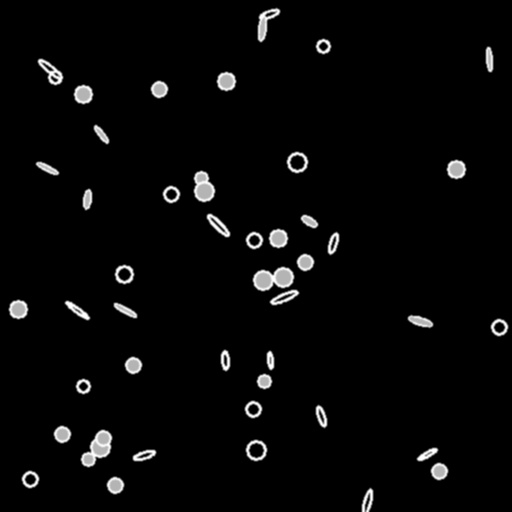pseudomonas: (205, 212, 231, 238), (37, 58, 63, 80), (270, 288, 298, 306), (65, 300, 89, 320), (113, 302, 137, 318), (407, 314, 433, 328), (92, 124, 110, 144), (360, 488, 374, 512), (258, 7, 280, 21), (36, 161, 58, 175), (417, 447, 437, 461), (315, 405, 327, 427), (133, 449, 155, 461), (327, 232, 339, 254), (257, 15, 267, 41), (300, 214, 318, 228), (83, 189, 91, 209), (221, 350, 229, 370), (486, 48, 492, 70), (267, 351, 273, 369)
synechocystis: (91, 438, 109, 456), (254, 271, 272, 289), (288, 153, 306, 171), (247, 441, 265, 459), (195, 182, 213, 200), (274, 268, 292, 286), (218, 73, 234, 89), (270, 230, 286, 246), (10, 301, 26, 317), (75, 86, 91, 102), (448, 161, 464, 177), (116, 266, 132, 282), (55, 427, 69, 441), (164, 187, 178, 201), (23, 472, 37, 486), (492, 320, 506, 334), (126, 358, 140, 372), (152, 82, 166, 96), (432, 464, 446, 478), (96, 431, 110, 445), (108, 478, 122, 492), (246, 402, 260, 416), (298, 255, 312, 269), (247, 233, 261, 247), (82, 453, 94, 465), (317, 40, 329, 52), (77, 380, 89, 392), (258, 375, 270, 387), (195, 172, 207, 184), (49, 71, 61, 83)
